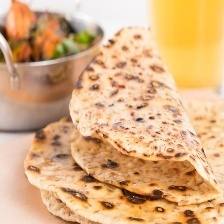roti: (23, 23, 224, 224)
